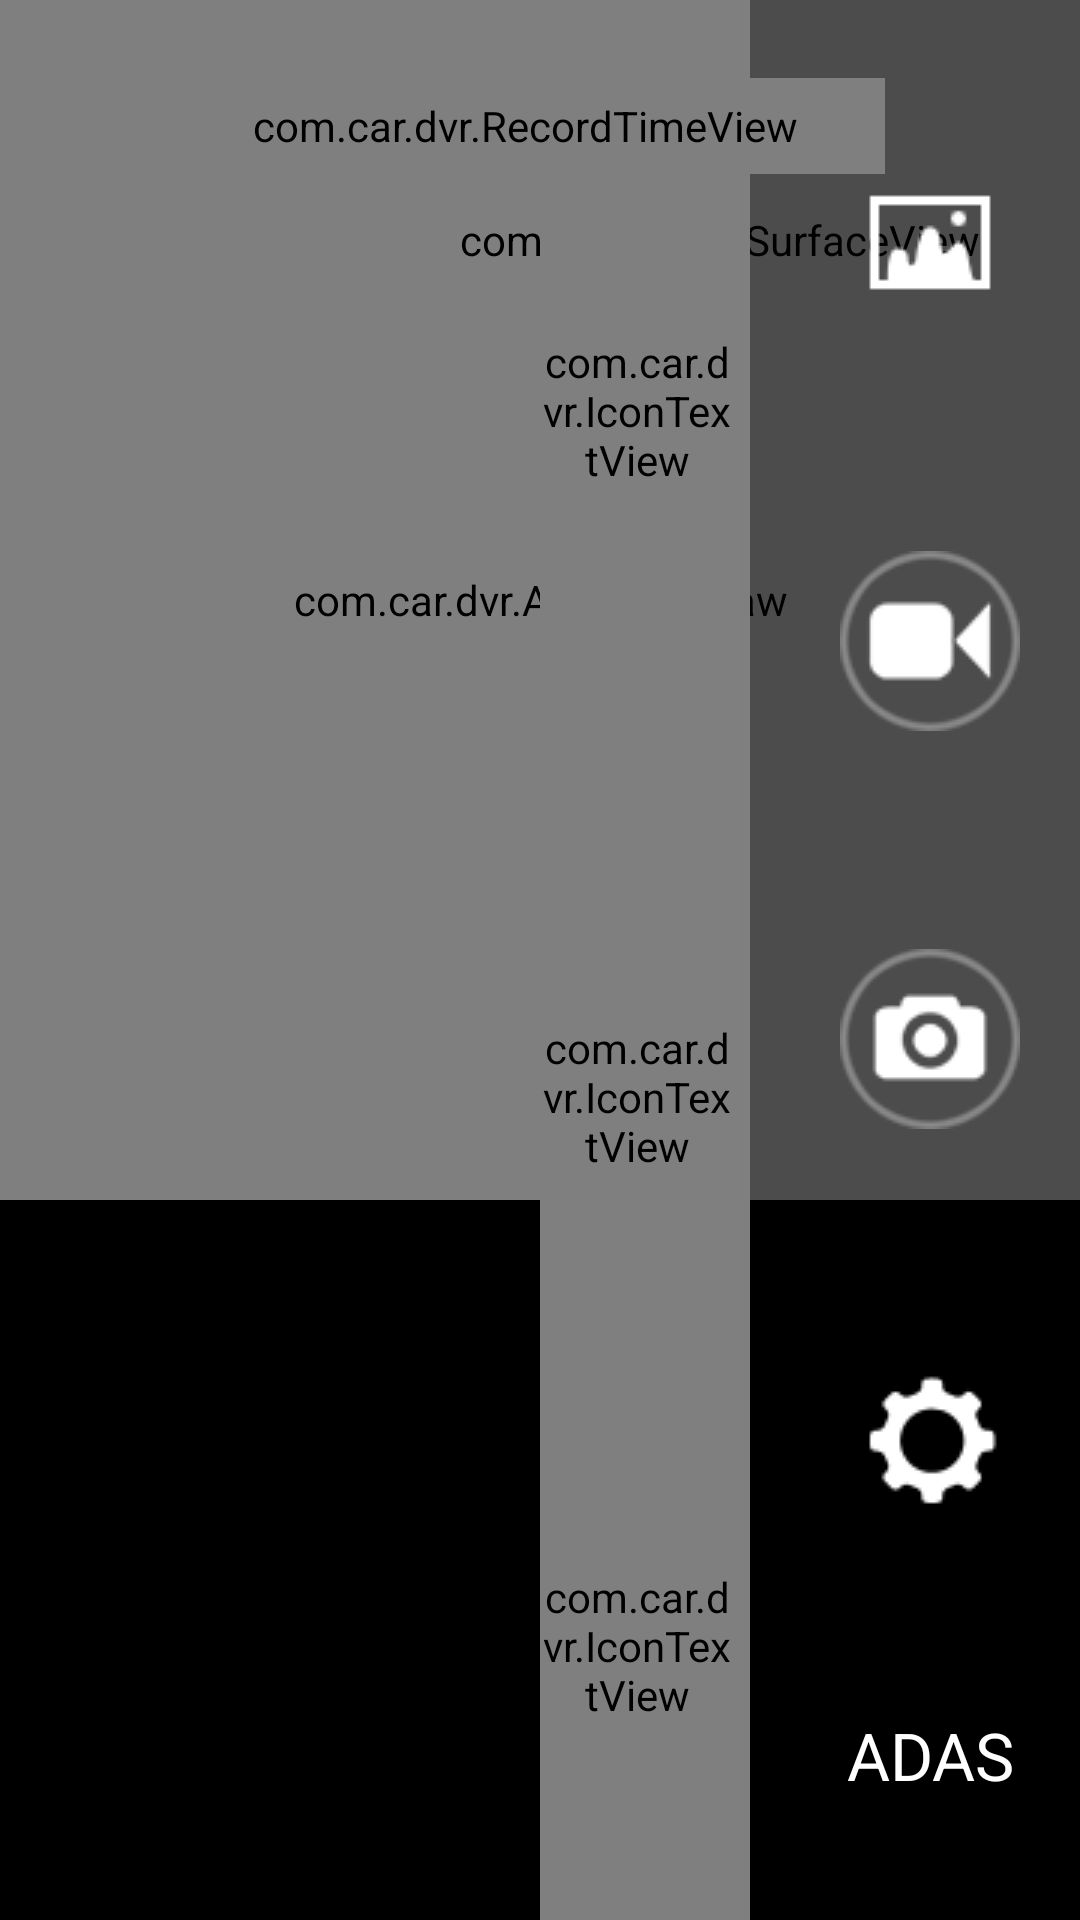

Where icons sit on this 1080px x 1920px app screen, as bbox(x1, y1, x2, y2):
recording off: bbox(840, 551, 1020, 731)
setting: bbox(869, 1376, 997, 1504)
shutter photo: bbox(840, 949, 1020, 1129)
